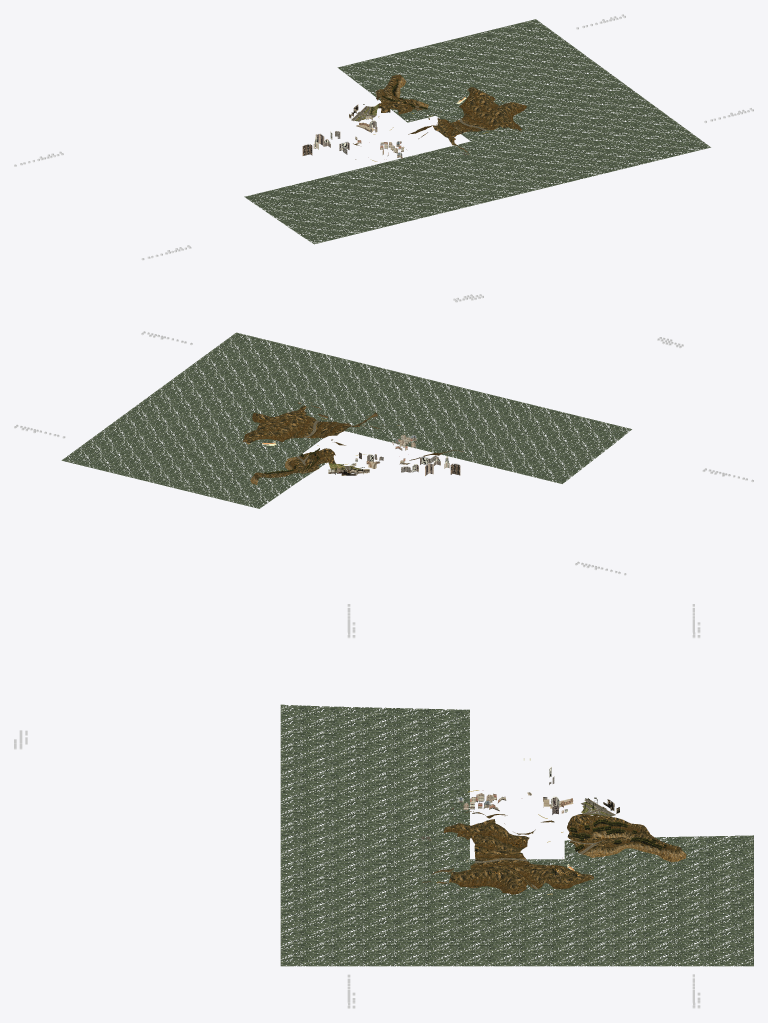
File: track-B2_C4_V2_env.glb
3 renders of one model, top to bottom at view 1: azimuth 30°, elevation 25°; view 2: azimuth 150°, elevation 25°; view 3: azimuth 270°, elevation 25°, orthographic. The views are drawn at different scales.
Parts seen in each view (by area): view 1: B2_C4_V2_env; view 2: B2_C4_V2_env; view 3: B2_C4_V2_env.
Part boxes in pixels (x1,y1,x2,y2): B2_C4_V2_env: (14, 14, 753, 302); B2_C4_V2_env: (14, 331, 753, 575); B2_C4_V2_env: (14, 604, 753, 1008).
Bounding box in the file's own units: 7593 × 244 × 5898.
11 materials, 10 textured.
